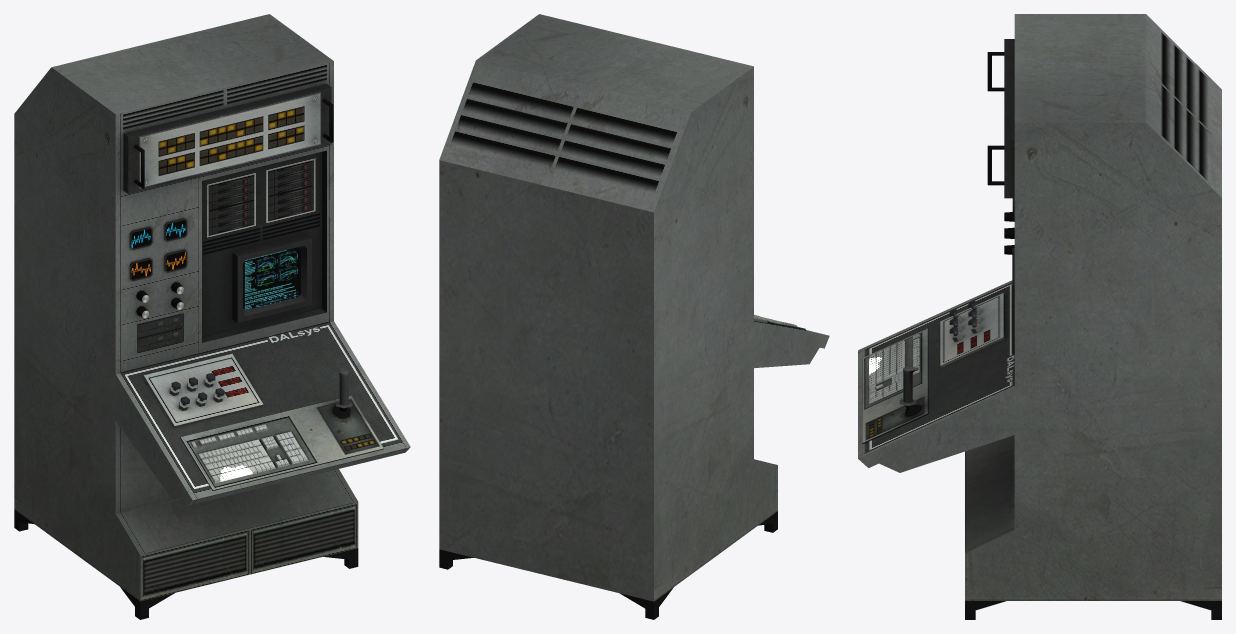
The model's file is server-console.glb.
The picture shows the model from 3 angles, left to right: view 1: azimuth 30°, elevation 25°; view 2: azimuth 150°, elevation 25°; view 3: azimuth 270°, elevation 25°; orthographic projection. The views are drawn at different scales.
Parts seen in each view (by area): view 1: console03b; view 2: console03b; view 3: console03b.
Part boxes in pixels (x1,y1,x2,y2): console03b: (14, 14, 410, 619); console03b: (439, 14, 829, 619); console03b: (858, 14, 1221, 619).
Size of the model in its own units: 0.8382 by 1.79 by 1.19.
Materials: 3 (3 with a texture image).
